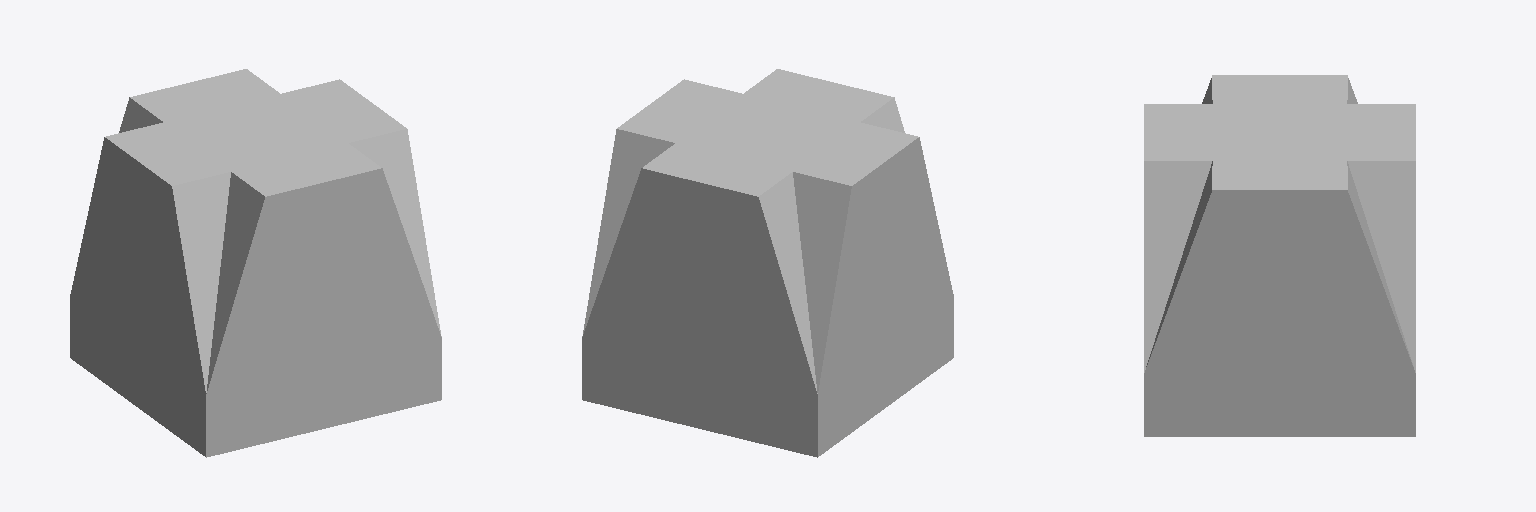
The model's file is wallcorner.obj.
3 views of the same model, side by side, from view 1: azimuth 30°, elevation 25°; view 2: azimuth 150°, elevation 25°; view 3: azimuth 270°, elevation 25° (orthographic).
Parts seen in each view (by area): view 1: Cube; view 2: Cube; view 3: Cube.
Boxes of the visible parts, <box> form: Cube: <box>70,69,441,457</box>; Cube: <box>582,69,953,457</box>; Cube: <box>1144,75,1415,436</box>.
Size of the model in its own units: 2 by 2 by 2.